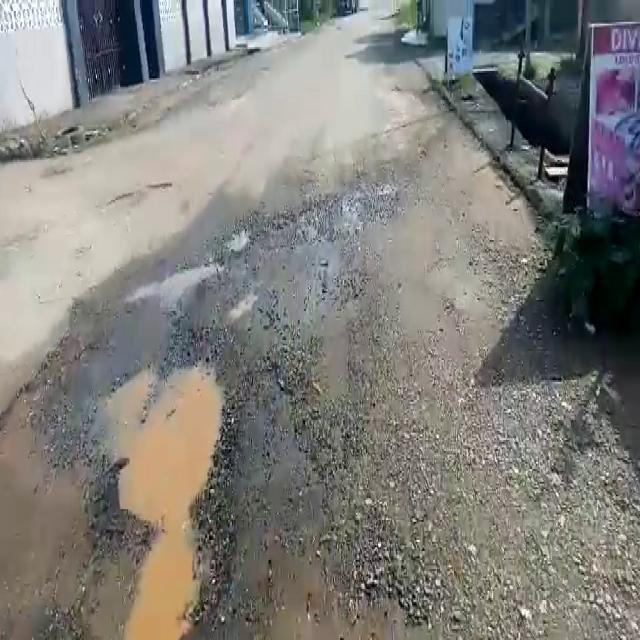Pothole: (72, 339, 242, 637)
